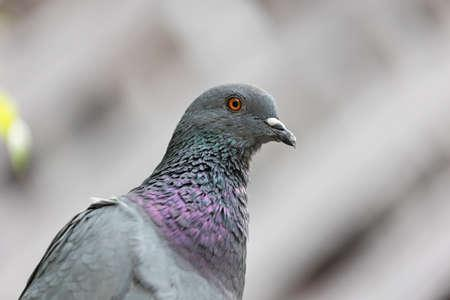Flying Rat: (25, 74, 295, 300)
